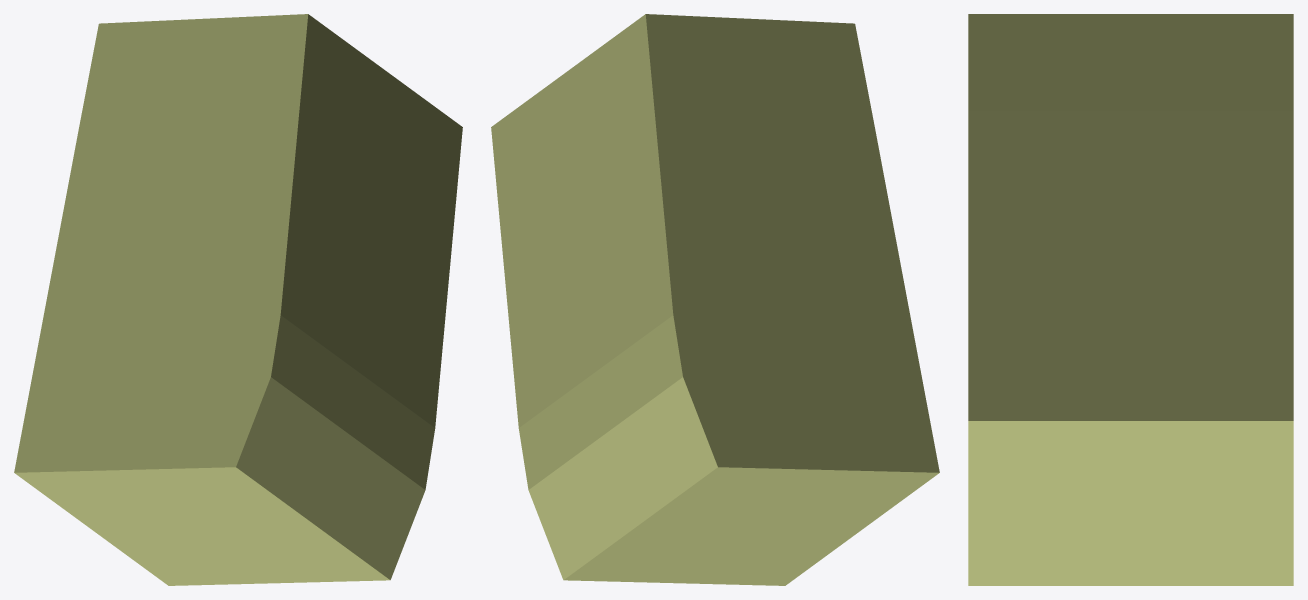
The picture shows the model from 3 angles, left to right: view 1: azimuth 30°, elevation 25°; view 2: azimuth 150°, elevation 25°; view 3: azimuth 270°, elevation 25°; orthographic projection. The views are drawn at different scales.
Parts seen in each view (by area): view 1: 0_1_2_0_3_3_2_0_1_1_1; view 2: 0_1_2_0_3_3_2_0_1_1_1; view 3: 0_1_2_0_3_3_2_0_1_1_1.
Part boxes in pixels (left/top/right/bottom): 0_1_2_0_3_3_2_0_1_1_1: left=14, top=14, right=462, bottom=585; 0_1_2_0_3_3_2_0_1_1_1: left=491, top=14, right=939, bottom=585; 0_1_2_0_3_3_2_0_1_1_1: left=968, top=14, right=1293, bottom=585.
Size of the model in its own units: 6.59 by 10.21 by 6.
